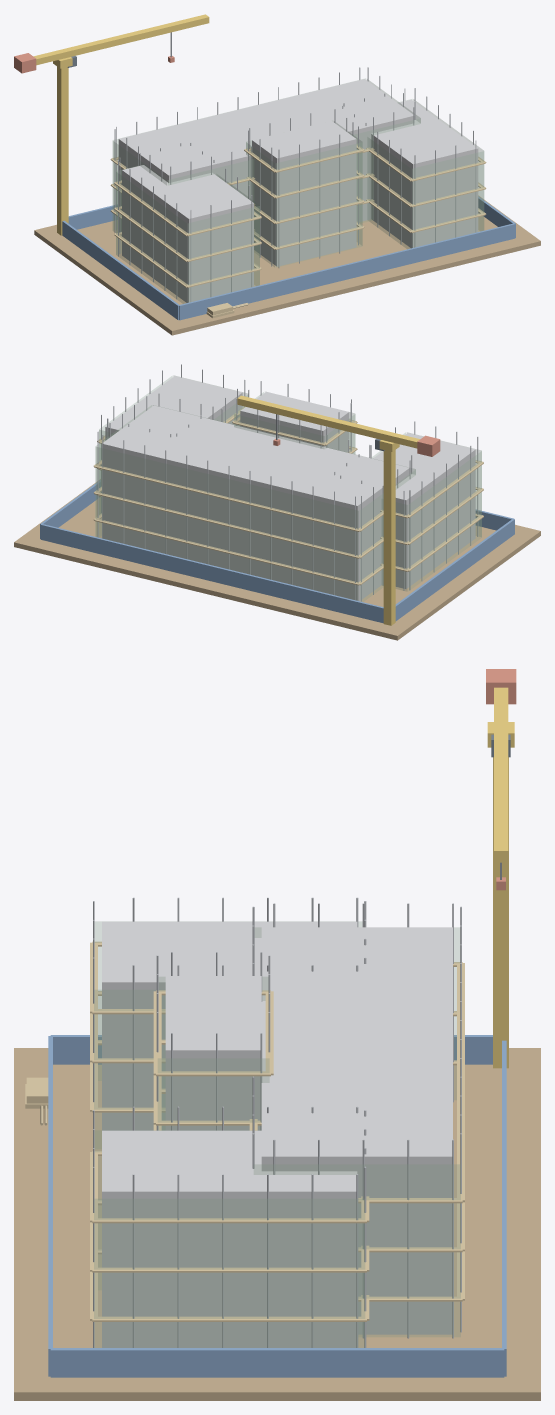
The model's file is num-3-construction.glb.
3 views of the same model, one above another, from view 1: azimuth 30°, elevation 25°; view 2: azimuth 150°, elevation 25°; view 3: azimuth 270°, elevation 25° (orthographic). The views are drawn at different scales.
Size of the model in its own units: 54.7 by 25.15 by 33.
